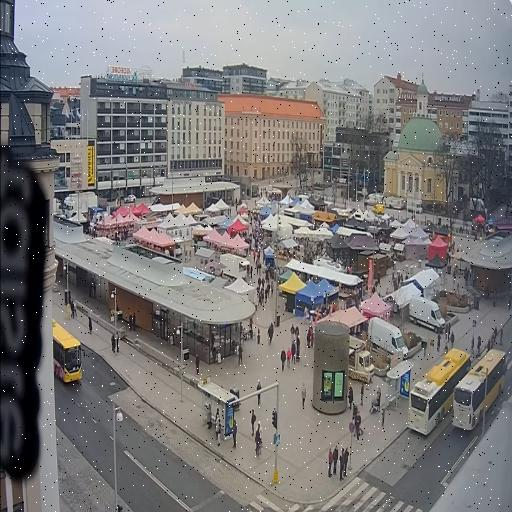Bus: (407, 348, 470, 435), (452, 349, 505, 430), (52, 319, 81, 383)
Delivery: (368, 317, 407, 359), (408, 297, 444, 333), (348, 336, 373, 383)
